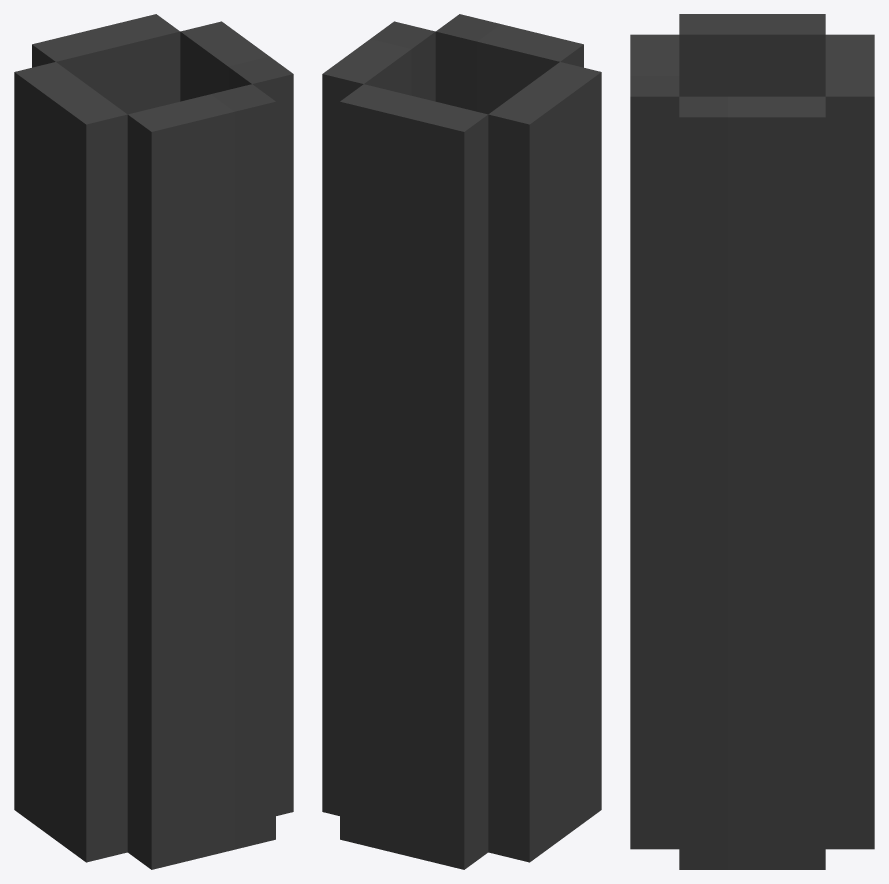
File: Decor-28.obj
3 views of the same model, side by side, from view 1: azimuth 30°, elevation 25°; view 2: azimuth 150°, elevation 25°; view 3: azimuth 270°, elevation 25° (orthographic). The views are drawn at different scales.
Bounding box in the file's own units: 0.5 × 1.7 × 0.5.
1 material, 1 textured.
